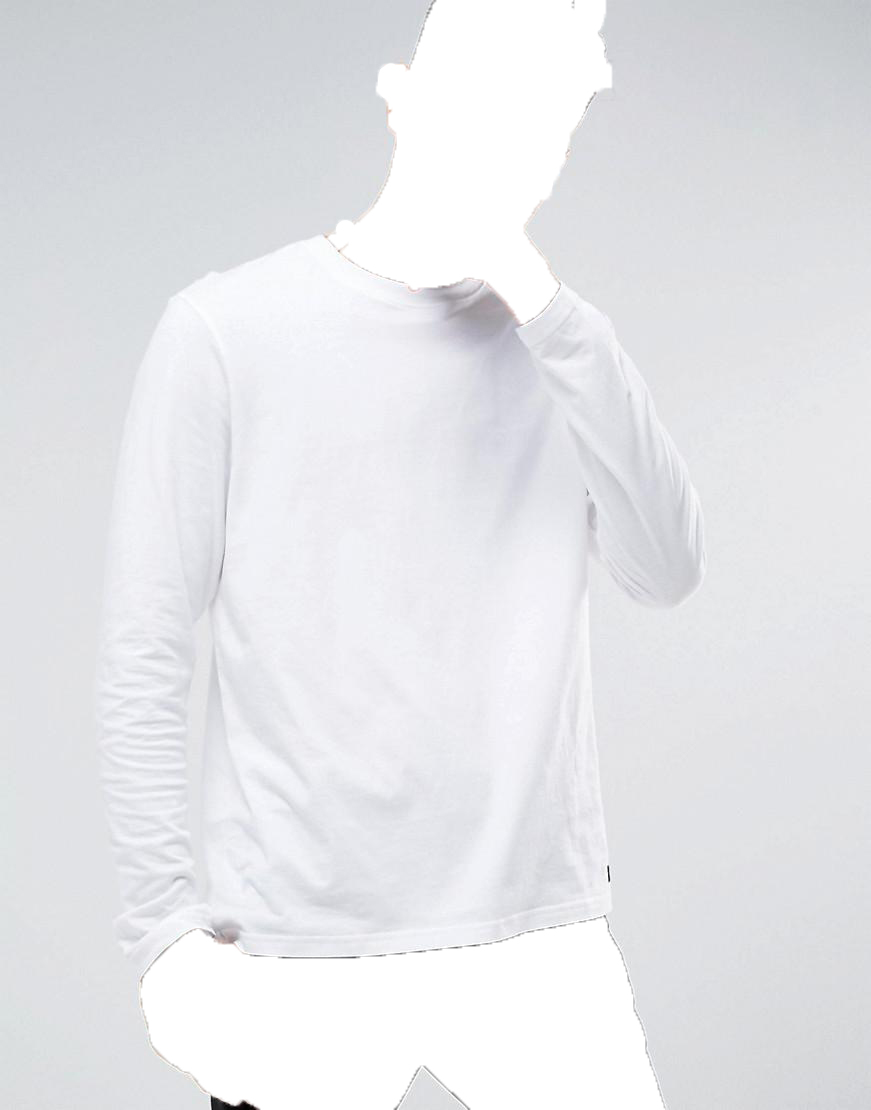teeshirt: (95, 237, 710, 962)
